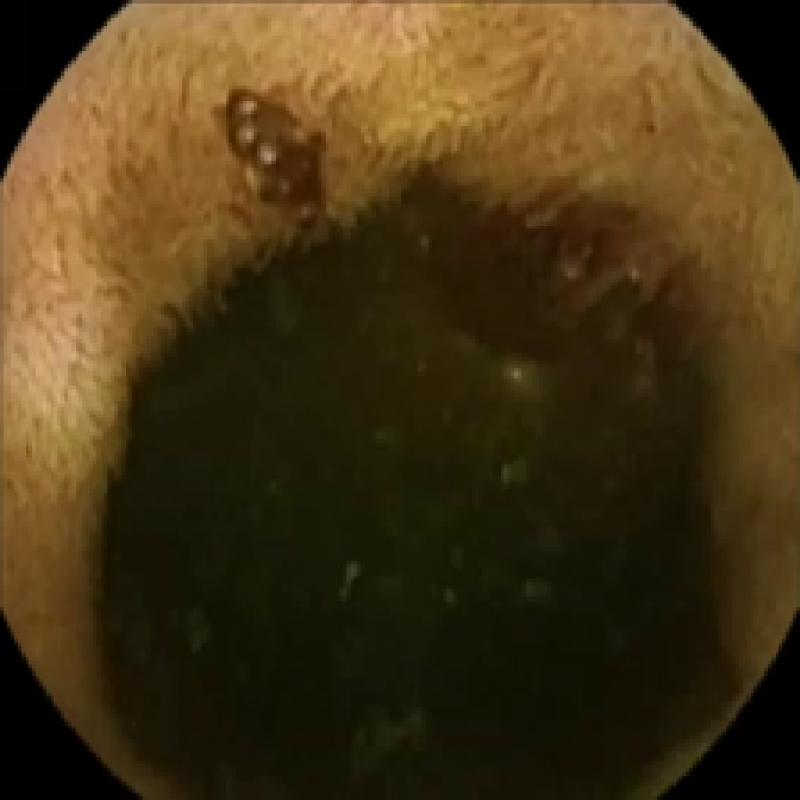bleeding: (407, 165, 649, 361), (232, 93, 329, 232)
